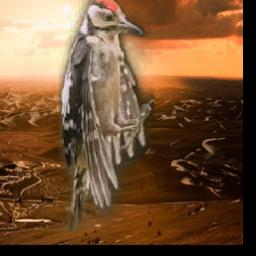Woodpecker: (59, 0, 154, 232)
